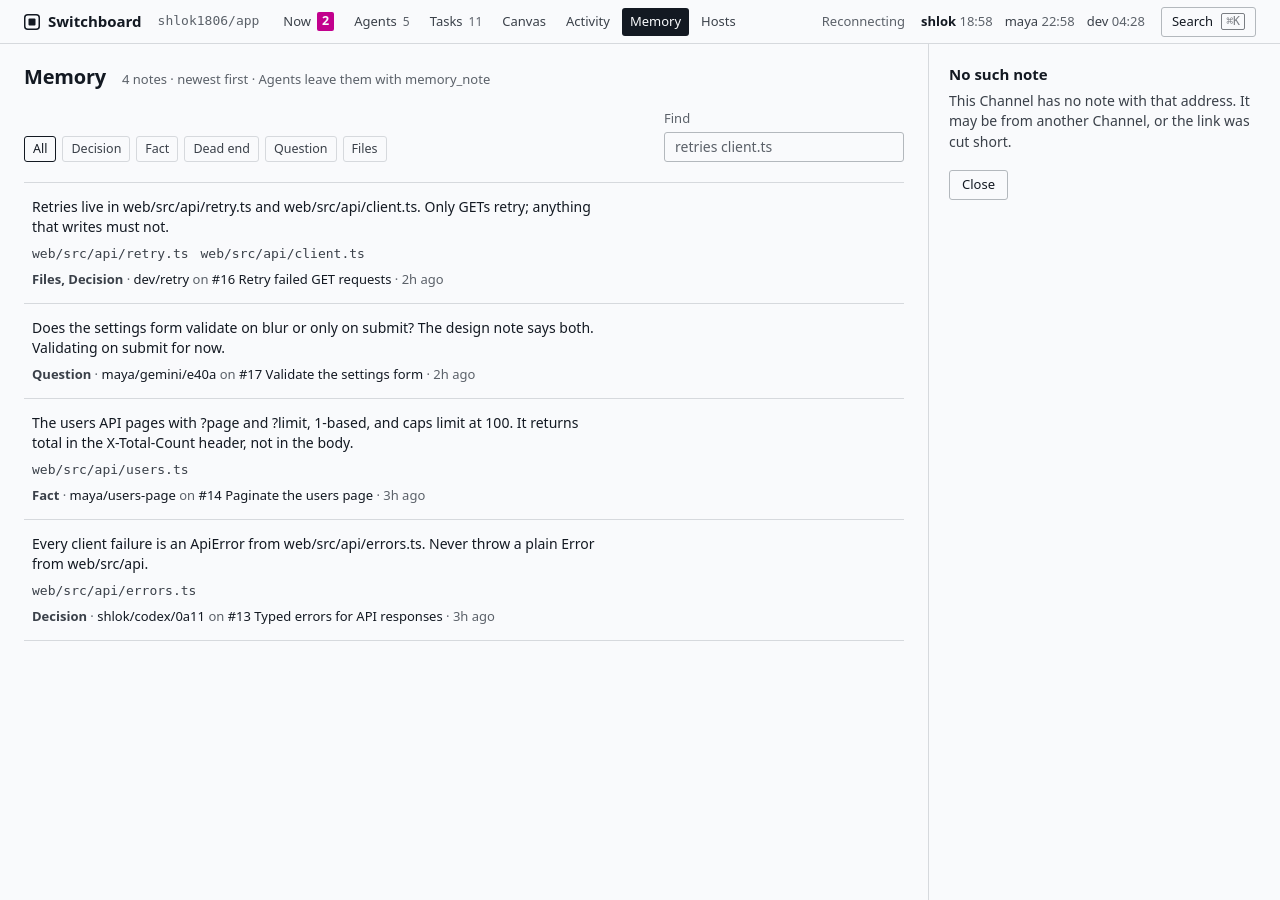
an address the Dashboard has no page for › #/memory/nope says the inspector has nothing to show, and Close goes back to the list
Check: the heading "No such note" is shown, box left=949, top=64, right=1048, bottom=85
Click the button "Close".
click(978, 185)  # box left=949, top=170, right=1008, bottom=200
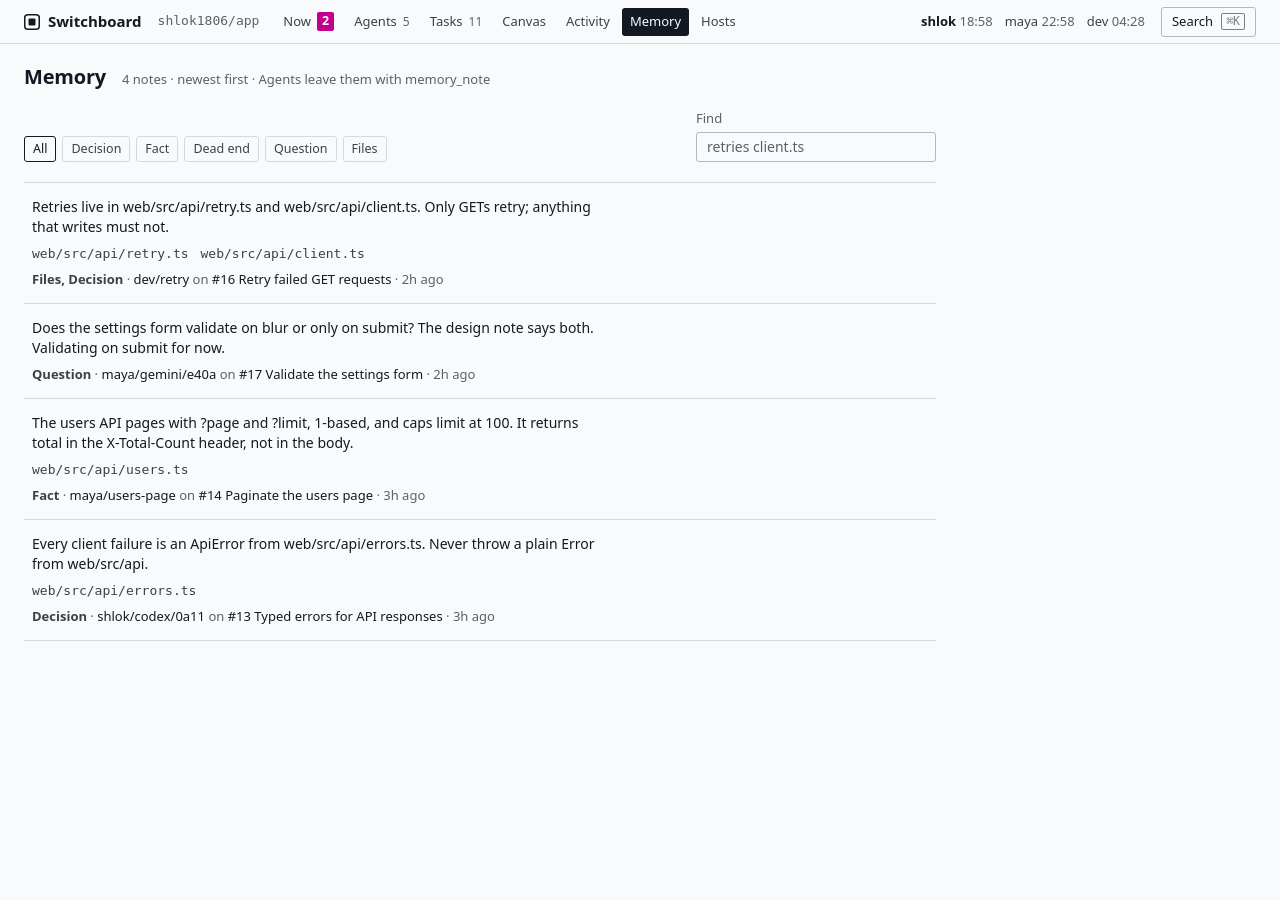
Check: the heading "No such note" is gone
